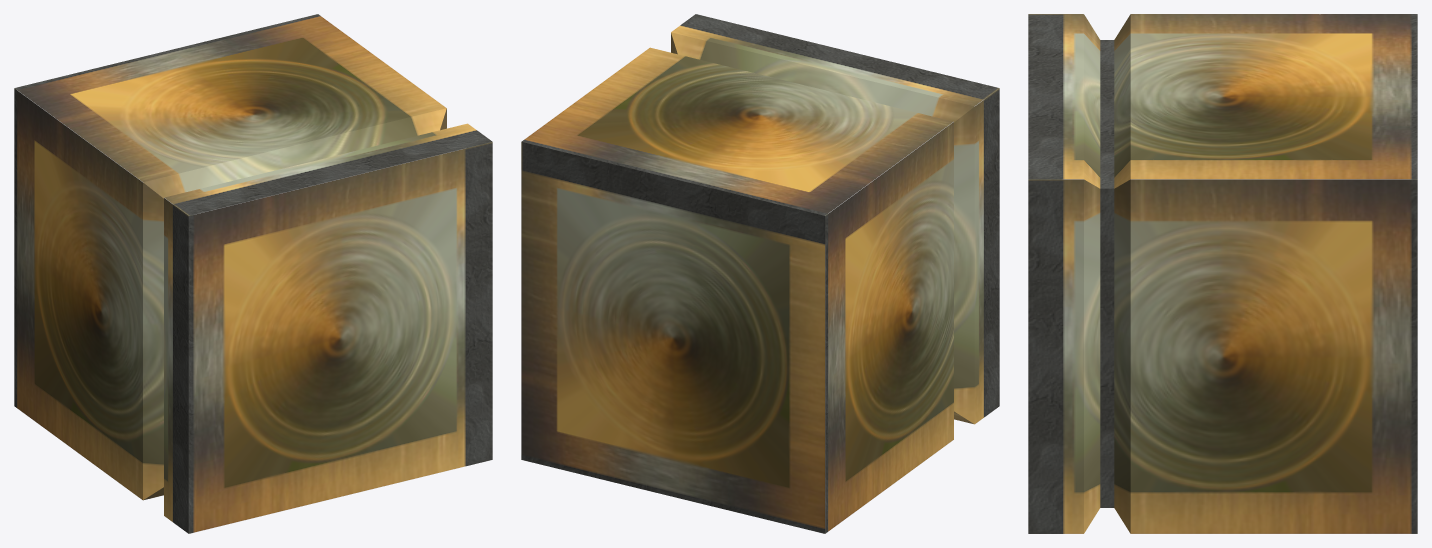
3 renders of one model, left to right at view 1: azimuth 30°, elevation 25°; view 2: azimuth 150°, elevation 25°; view 3: azimuth 270°, elevation 25°, orthographic. The views are drawn at different scales.
Parts seen in each view (by area): view 1: Cube_Cube_None_QuartoPieces.png; view 2: Cube_Cube_None_QuartoPieces.png; view 3: Cube_Cube_None_QuartoPieces.png.
Part boxes in pixels (x1,y1,x2,y2): Cube_Cube_None_QuartoPieces.png: [14, 14, 492, 533]; Cube_Cube_None_QuartoPieces.png: [521, 14, 999, 533]; Cube_Cube_None_QuartoPieces.png: [1028, 14, 1417, 533].
Bounding box in the file's own units: 2 × 2 × 1.99.
